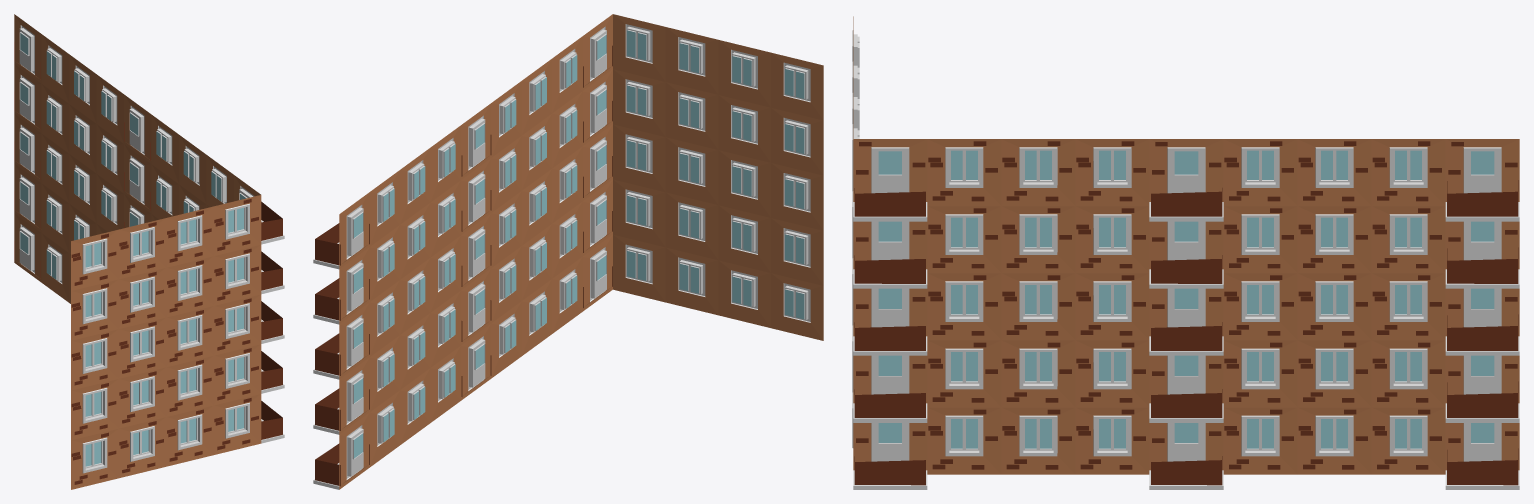
File: Big_house.fbx
3 views of the same model, side by side, from view 1: azimuth 30°, elevation 25°; view 2: azimuth 150°, elevation 25°; view 3: azimuth 270°, elevation 25° (orthographic). The views are drawn at different scales.
Visible parts, largest first — view 1: Plane.005, Plane.001; view 2: Plane.001, Plane.005; view 3: Plane.001, Plane.005.
Part boxes in pixels (<box>): Plane.005: <box>71,195,261,489</box>; Plane.001: <box>14,14,284,443</box>; Plane.001: <box>313,14,612,489</box>; Plane.005: <box>613,14,823,340</box>; Plane.001: <box>853,139,1519,489</box>; Plane.005: <box>852,16,859,447</box>.
Size of the model in its own units: 898 by 1000 by 1803.
